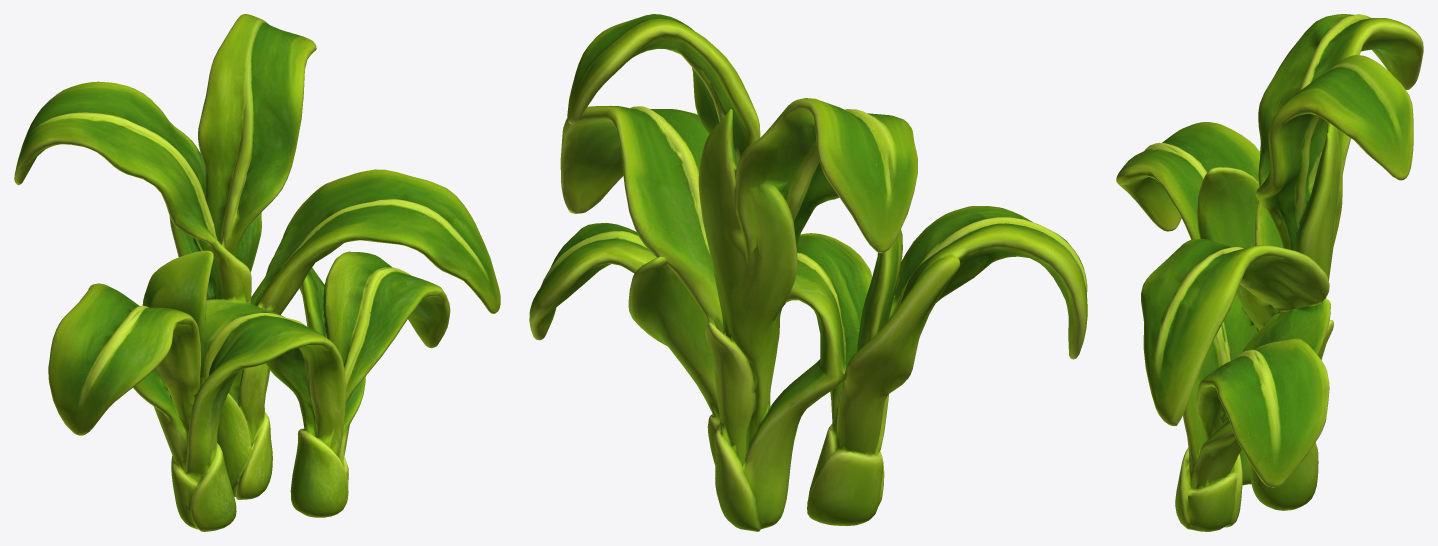
File: corn-sprout.glb
3 views of the same model, side by side, from view 1: azimuth 30°, elevation 25°; view 2: azimuth 150°, elevation 25°; view 3: azimuth 270°, elevation 25° (orthographic). The views are drawn at different scales.
Size of the model in its own units: 1.9 by 1.8 by 1.08.
1 material, 1 textured.
